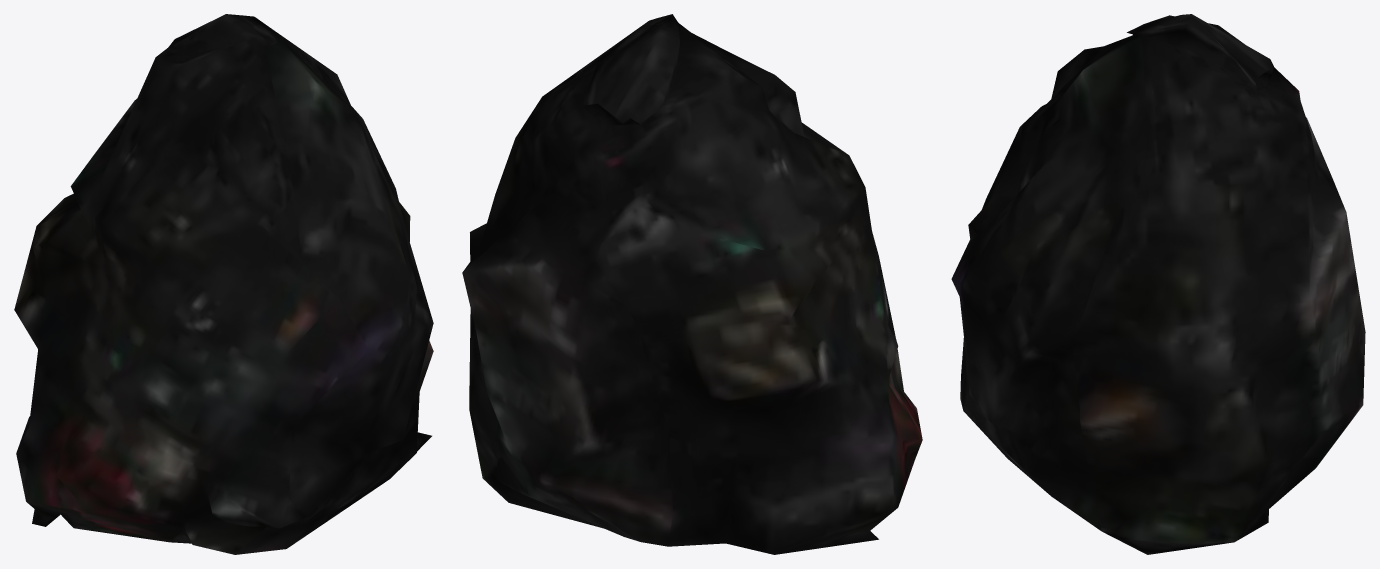
File: trash_bag.glb
3 views of the same model, side by side, from view 1: azimuth 30°, elevation 25°; view 2: azimuth 150°, elevation 25°; view 3: azimuth 270°, elevation 25° (orthographic). The views are drawn at different scales.
Visible parts, largest first — view 1: trash_bag; view 2: trash_bag; view 3: trash_bag.
Boxes of the visible parts, x1,y1,x2,y2 form: trash_bag: [14, 14, 433, 554]; trash_bag: [462, 14, 922, 554]; trash_bag: [951, 14, 1365, 554].
Bounding box in the file's own units: 0.5187 × 0.5675 × 0.4629.
Materials: 1 (1 with a texture image).
